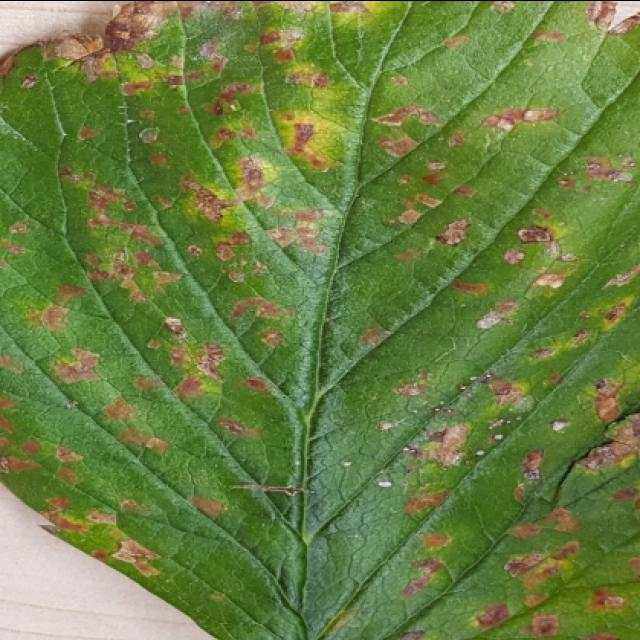Angular Leafspot: (0, 2, 638, 640)
